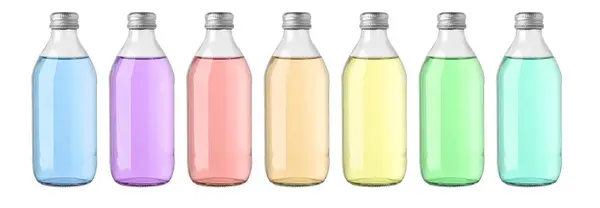glass_bottle: (492, 9, 571, 192), (24, 8, 101, 189), (338, 9, 413, 193), (105, 10, 181, 191), (261, 10, 334, 193), (184, 10, 255, 191), (417, 11, 487, 191)
